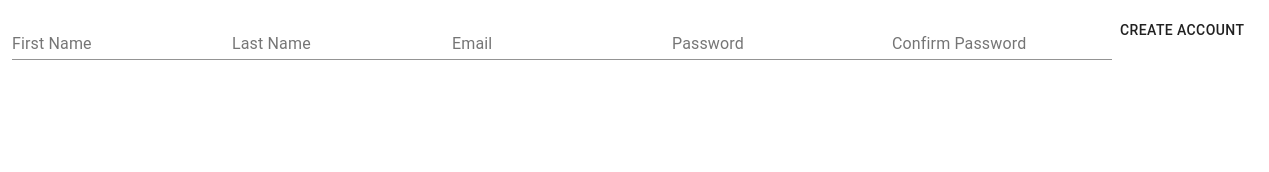
<CreateAccountform /> › should show the proper errors when no values are entered
This screenshot has width=1269, height=172.
Click the button at (1182, 30), box [1112,12,1252,48]
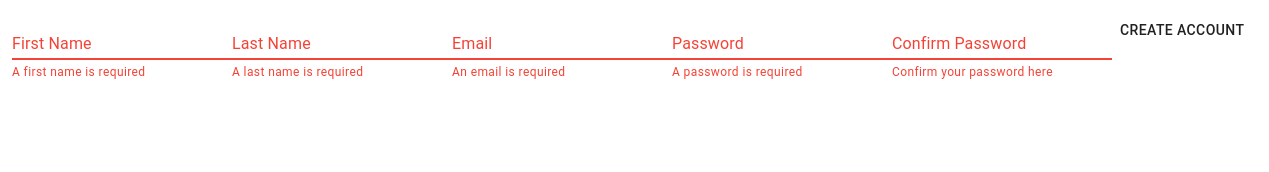
Check: the text "A first name is required" is shown, box [12,65,146,79]
Check: the text "A last name is required" is shown, box [232,65,363,79]
Check: the text "An email is required" is shown, box [452,65,566,79]
